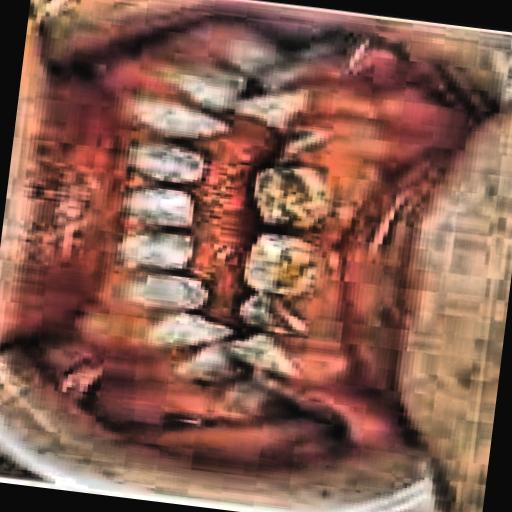Caries: (212, 145, 350, 368)
